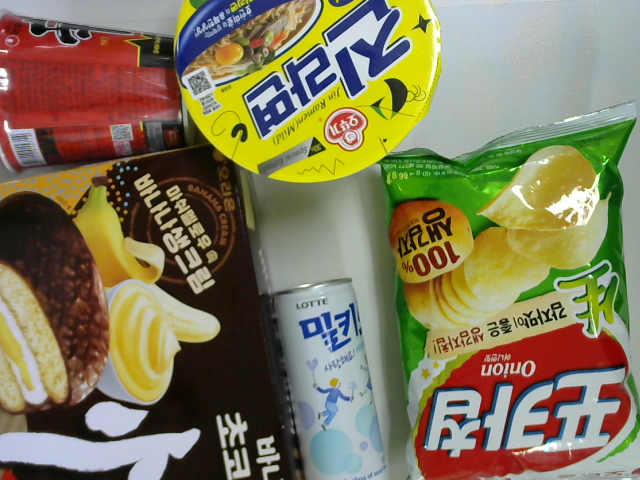Choco_Pie_Banana: (1, 142, 299, 480)
Jinlamyeon_Mild_Taste_Large_Cup: (172, 1, 442, 187)
Milkies_250ml: (270, 276, 389, 480)
Pocachip_Onion: (372, 99, 640, 480)
Sinramen_small: (1, 6, 193, 177)
